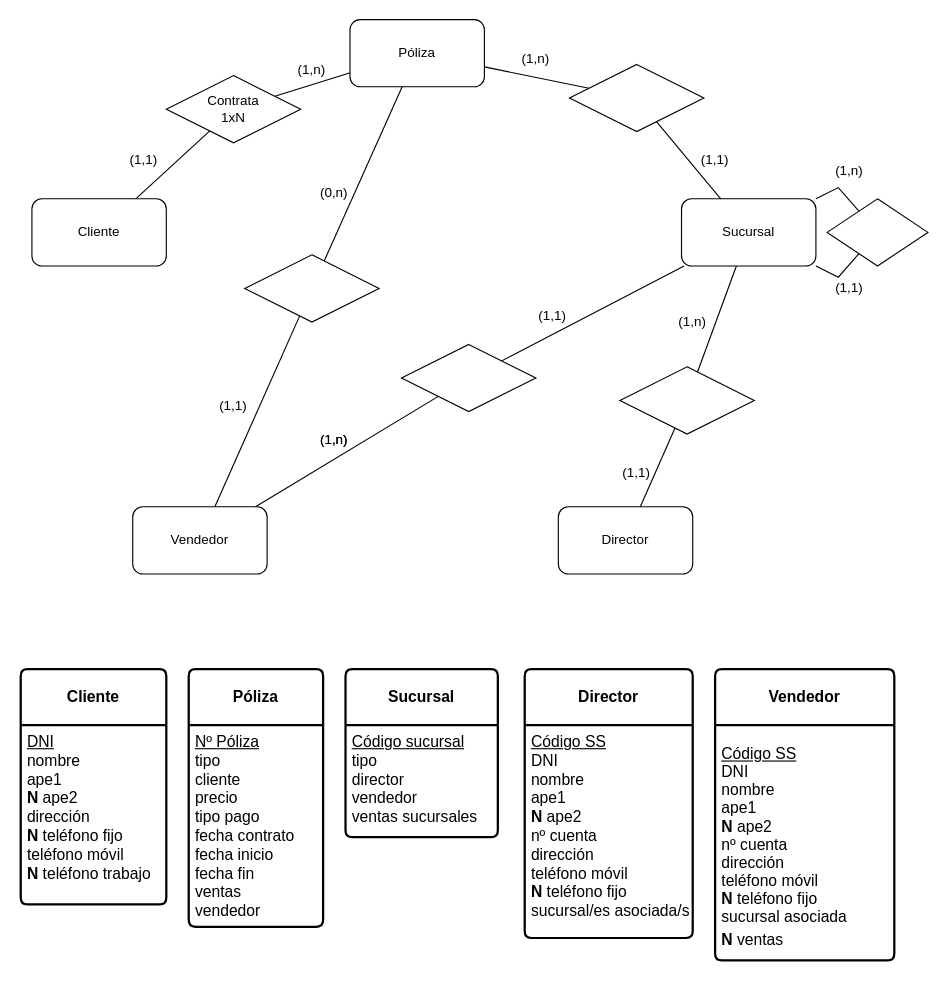
This 948x981 diagram has some shape labels left out. Here are the shapes that lost their labels. From the top down, the centre of each, then its label:
At [636,97]: "Vendida Nx1".
At [877,232]: "Depende N,1".
At [311,288]: "Vende 1xN".
At [468,377]: "Trabaja Nx1".
At [686,400]: "Dirige 1xN".
